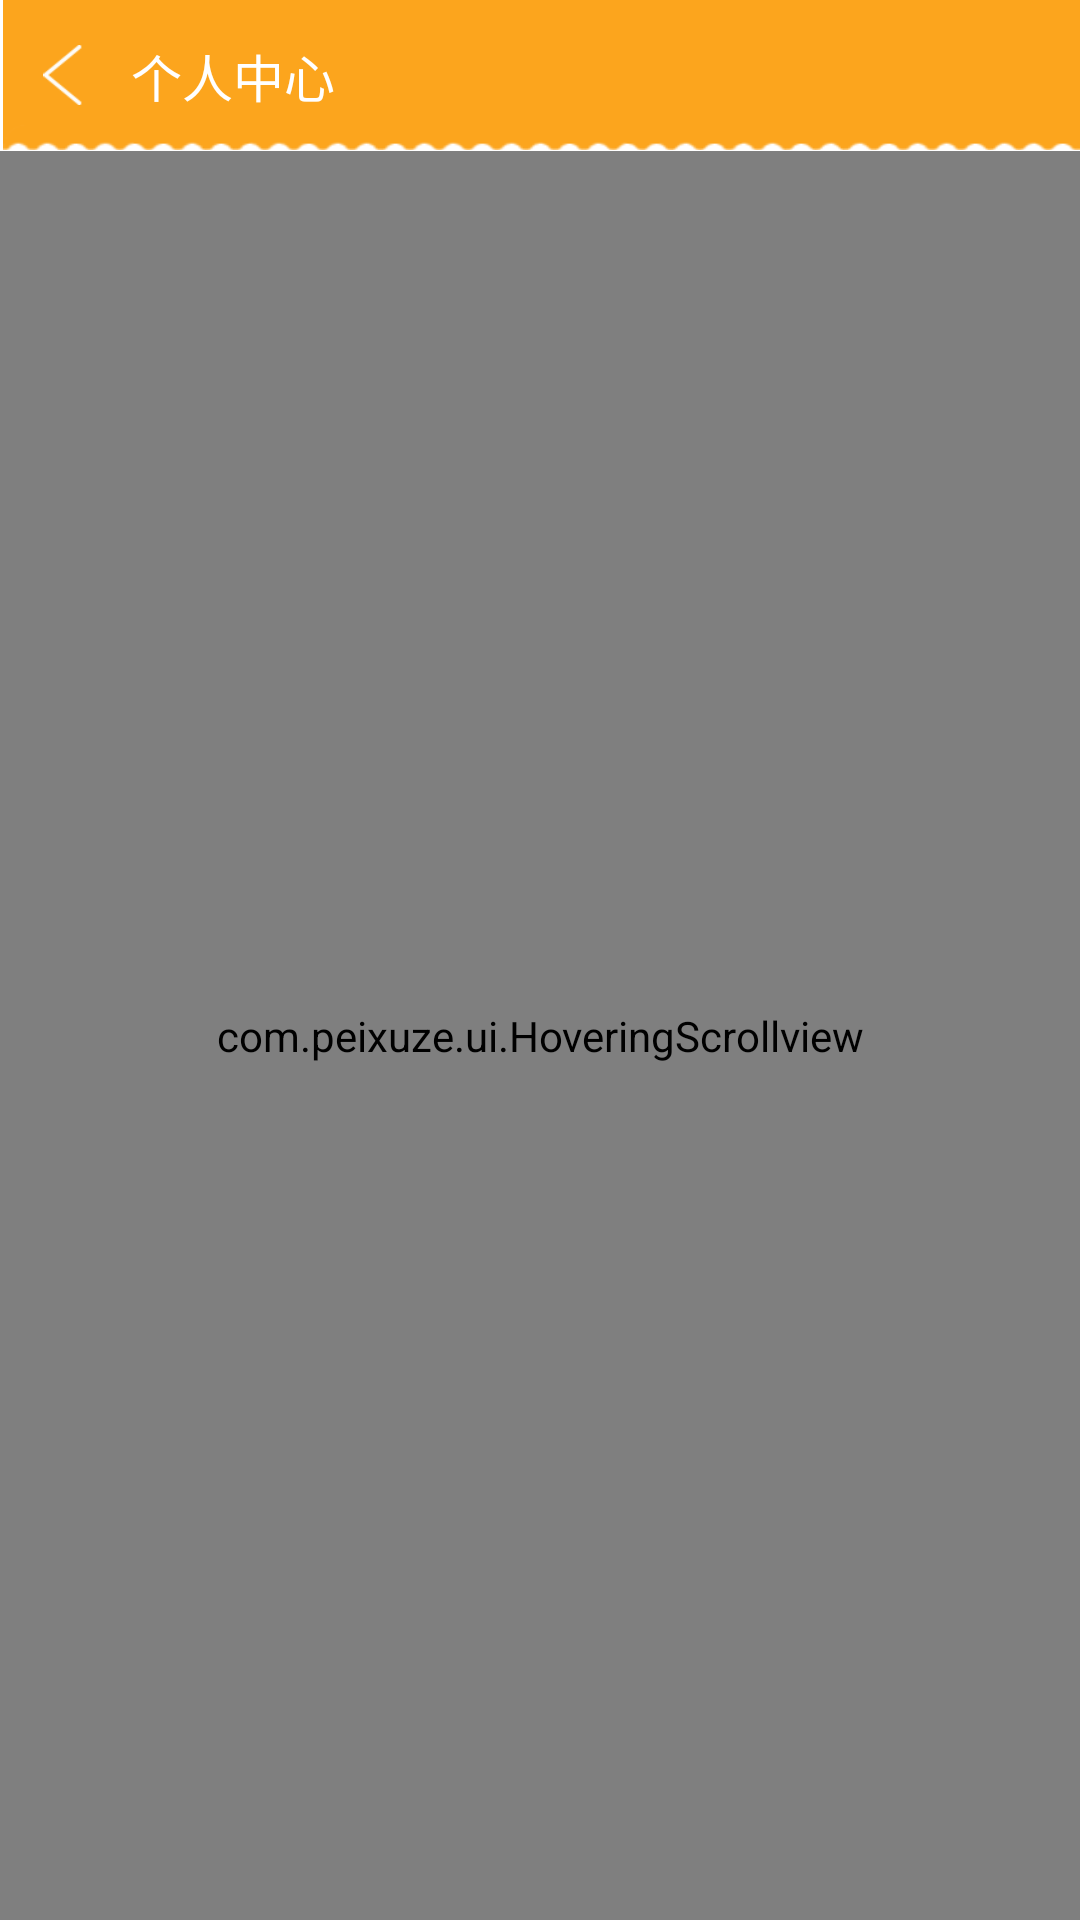

Named icons in this screenshot (1080x1920) and their bounding boxes, [x1=x1, y1=y1, x2=x2, y2=y2]:
imageview arrow back: [x1=43, y1=45, x2=82, y2=105]
